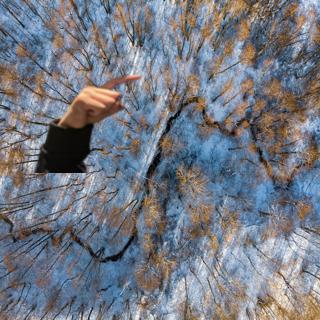WHY: (58, 70, 144, 128)
